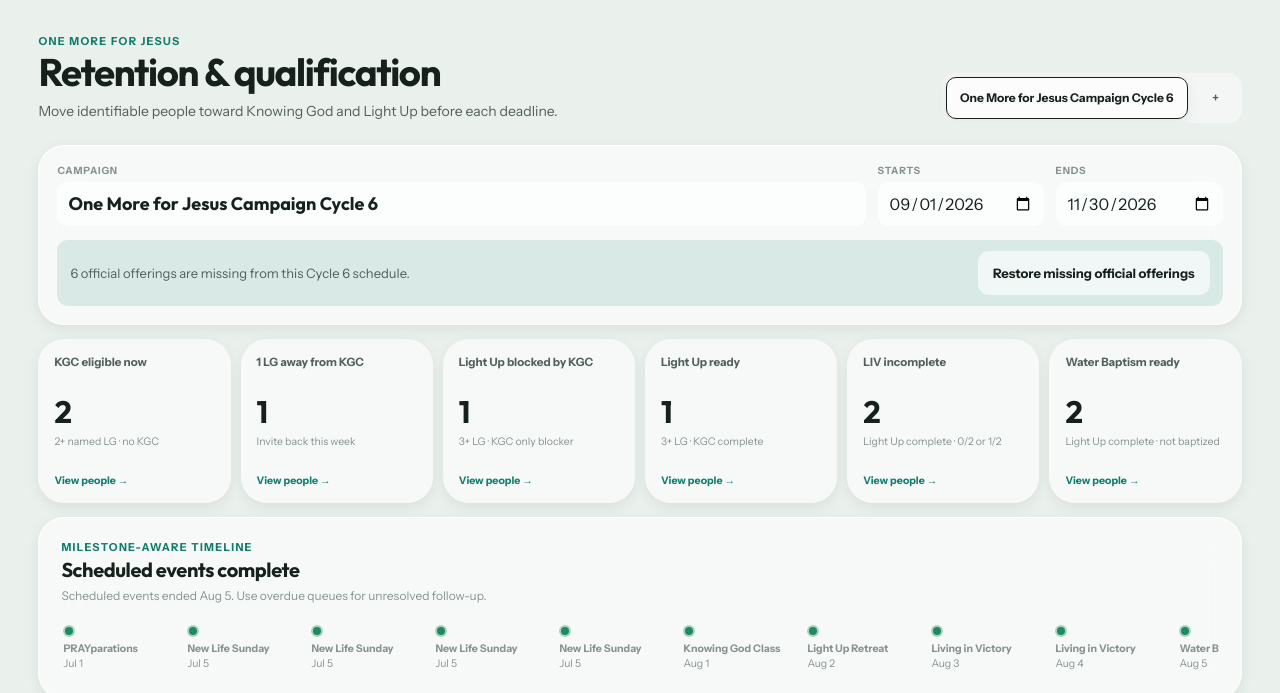
Test: CampaignPage › renders actionable priority counts and filters the exact KGC-eligible people
The image size is (1280, 693).
Click the button "KGC eligible now 2 2+ named LG · no KGC View people →". click: click(134, 421)
box: left=38, top=339, right=231, bottom=503
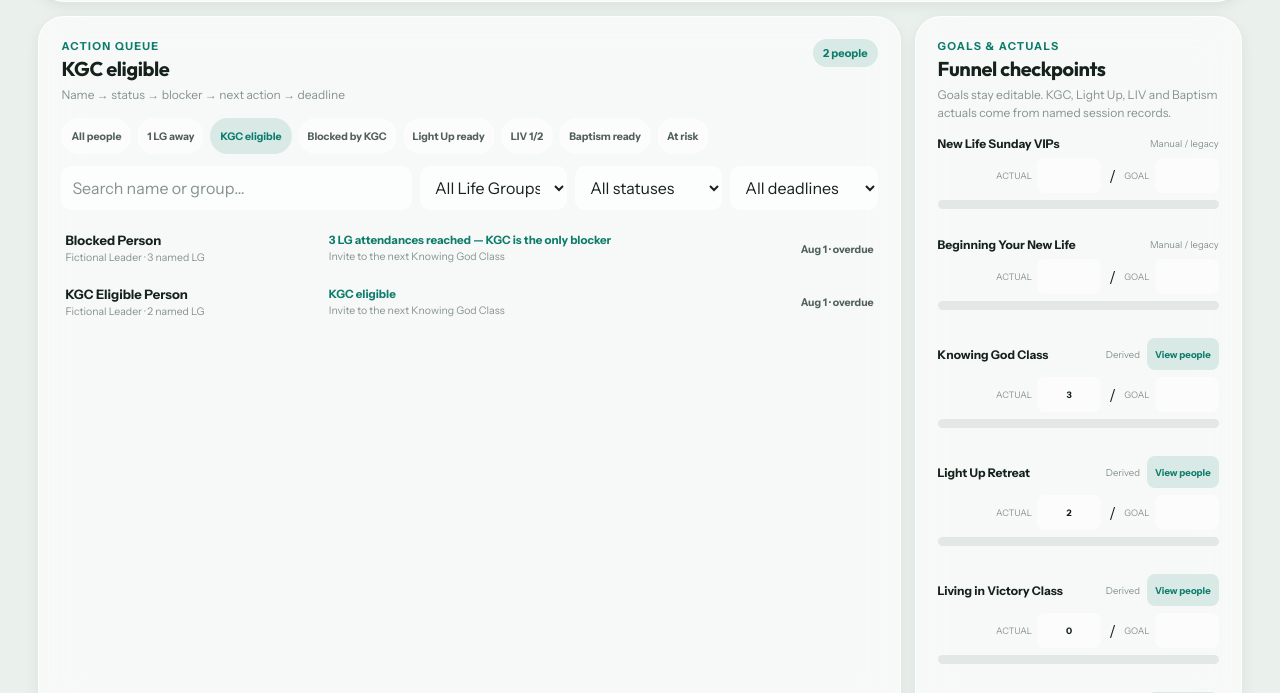
Now the button "KGC Eligible Person" is shown, box left=61, top=276, right=878, bottom=330
Now the button "Blocked Person" is shown, box left=61, top=222, right=878, bottom=276
